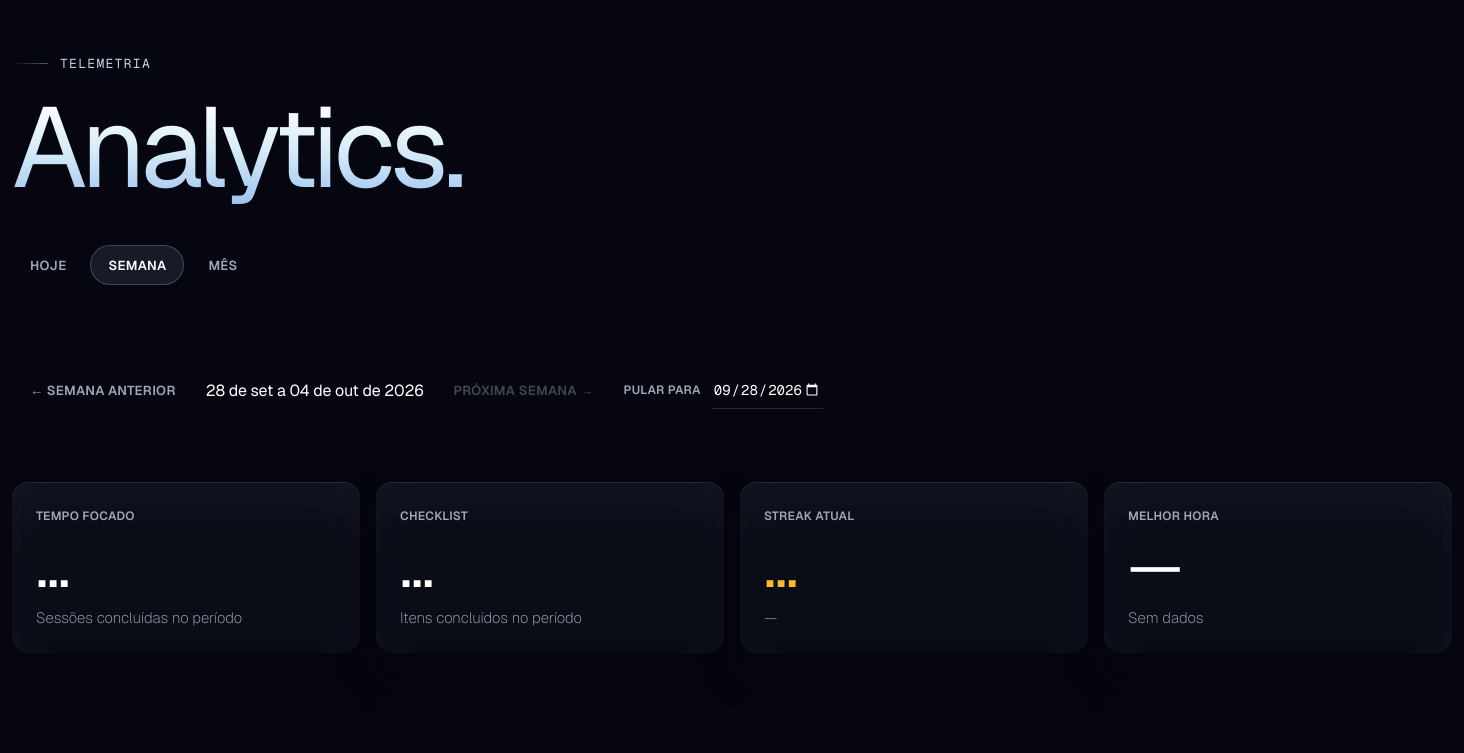
Test: shows a readable month rather than a raw ISO range, while today keeps its date range
The image size is (1464, 753).
Click the button "Mês".
click(223, 265)  # box top-left (190, 245), bottom-right (256, 285)
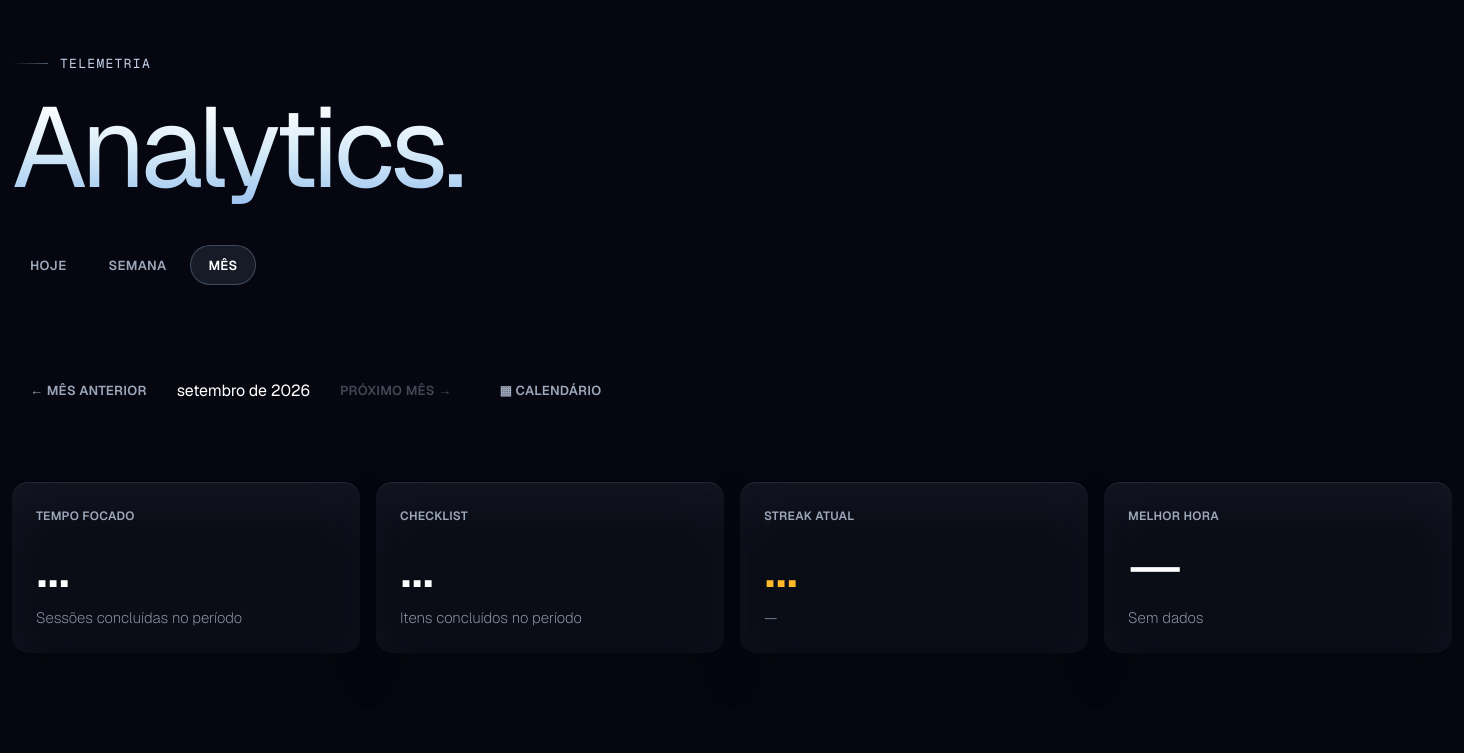
expect the text "setembro de 2026" is shown: met, box top-left (177, 380), bottom-right (310, 400)
Click the button "Hoje".
click(48, 265)  # box top-left (12, 245), bottom-right (84, 285)
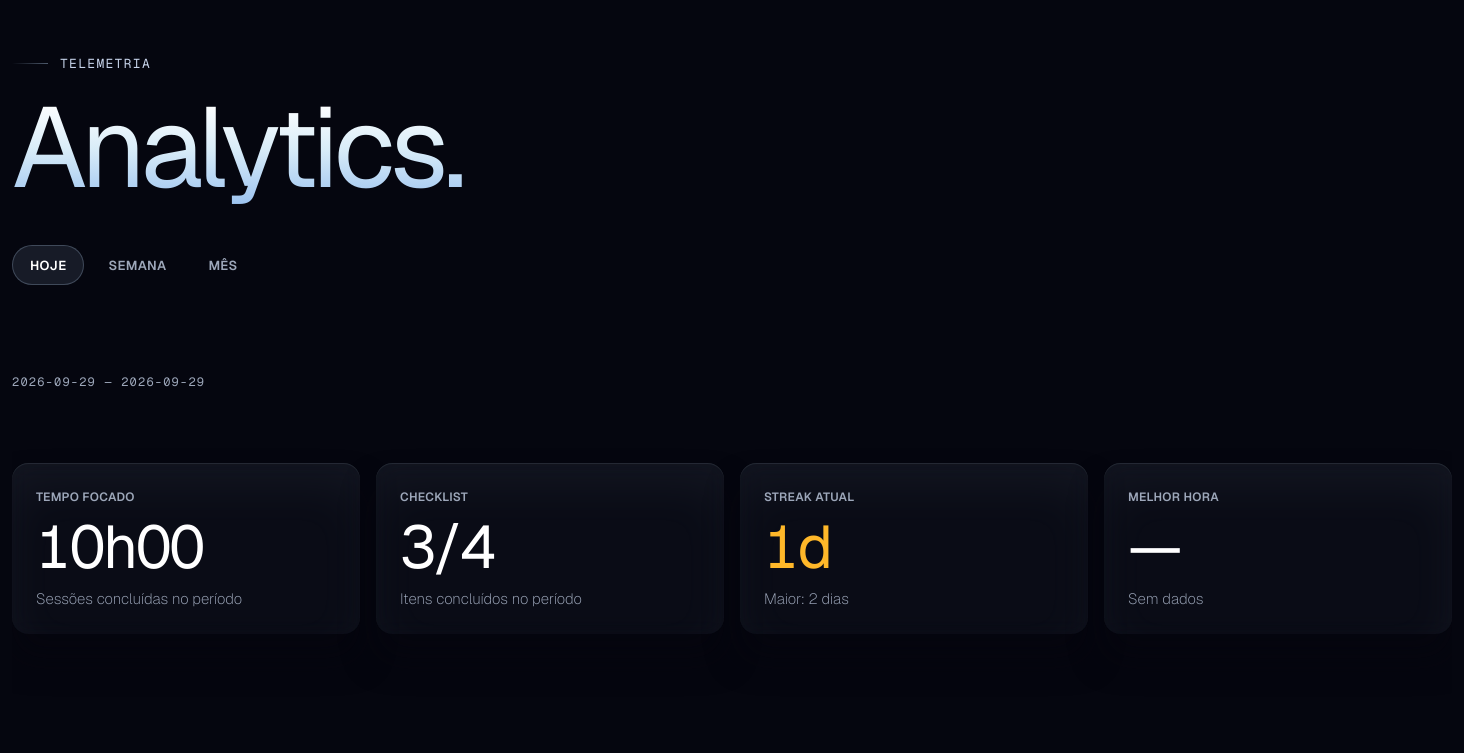
expect the text "2026-09-29 — 2026-09-29" is shown: met, box top-left (12, 374), bottom-right (205, 390)
